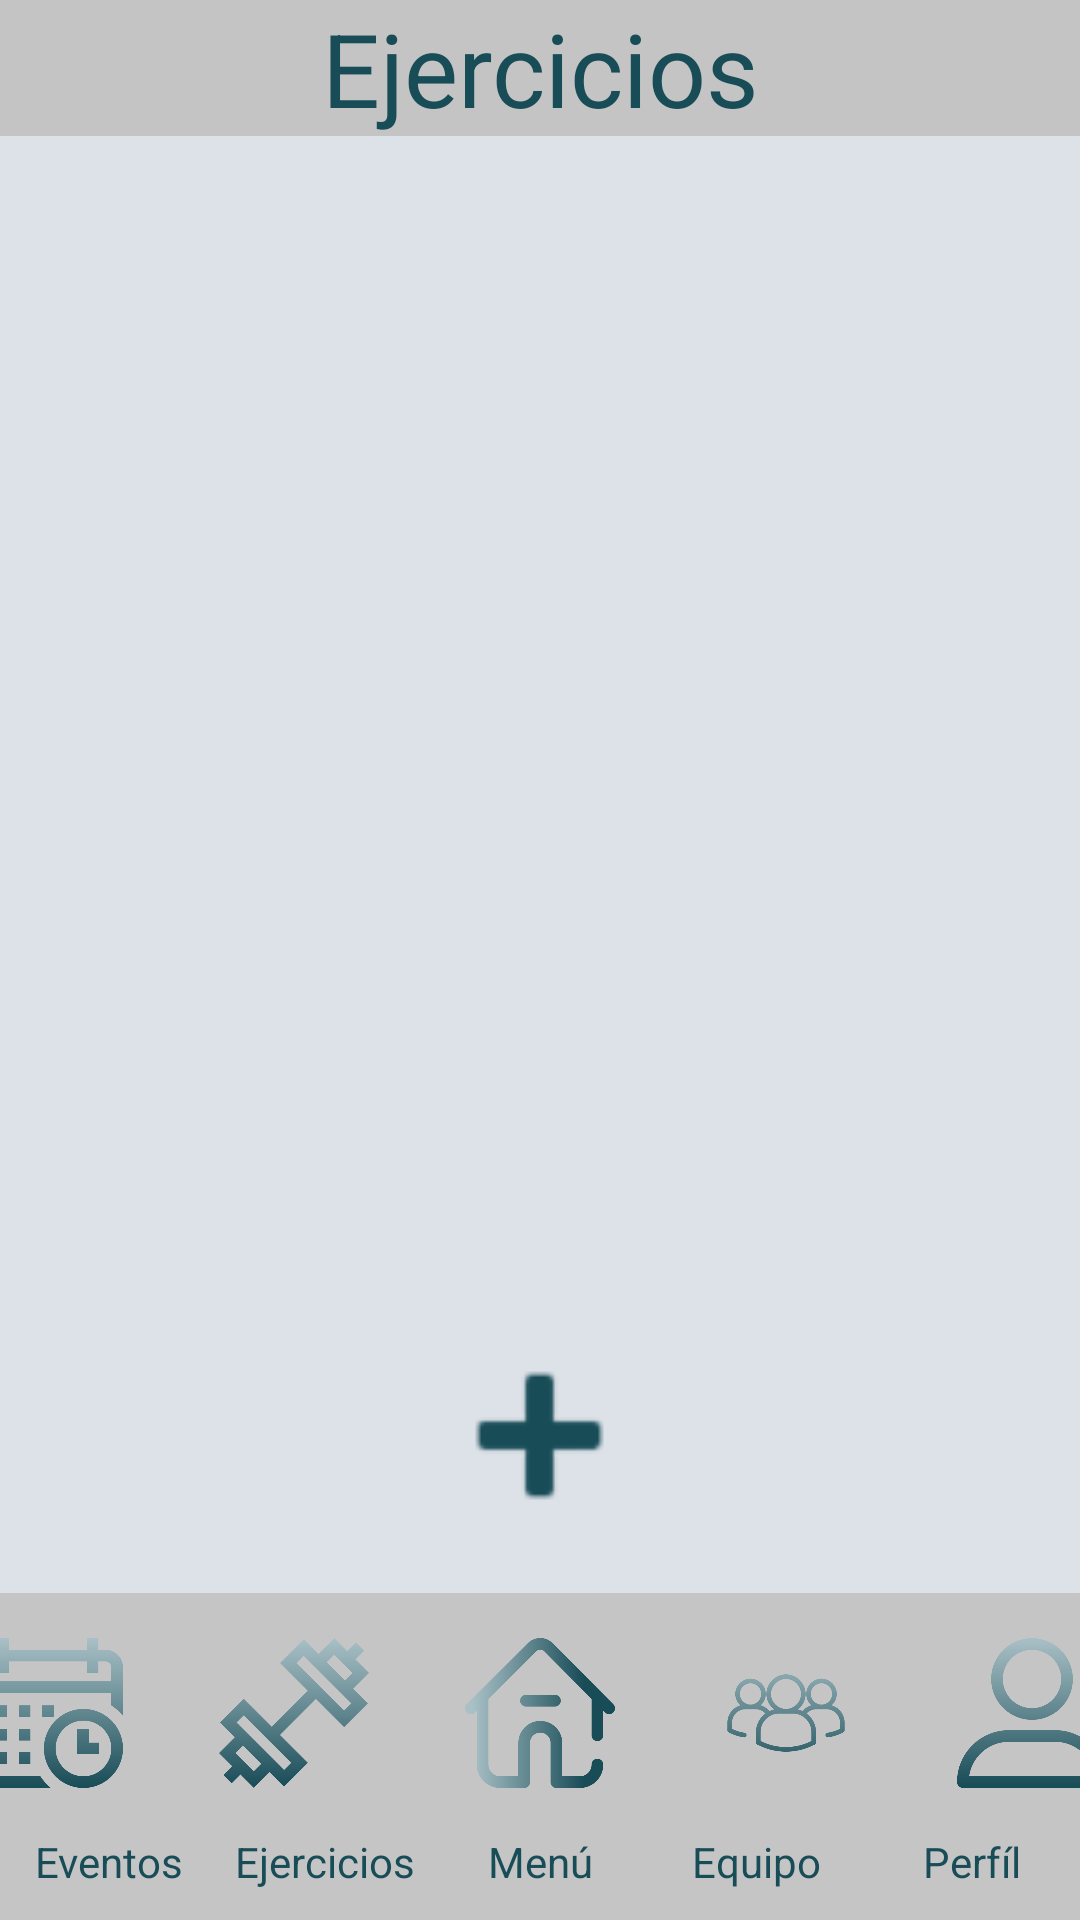

Named icons in this screenshot (1080x1920) and their bounding boxes, [left=x1, top=y1, right=x2, bottom=y2]:
grupo: [left=727, top=1674, right=845, bottom=1752]
pesa: [left=219, top=1639, right=369, bottom=1788]
